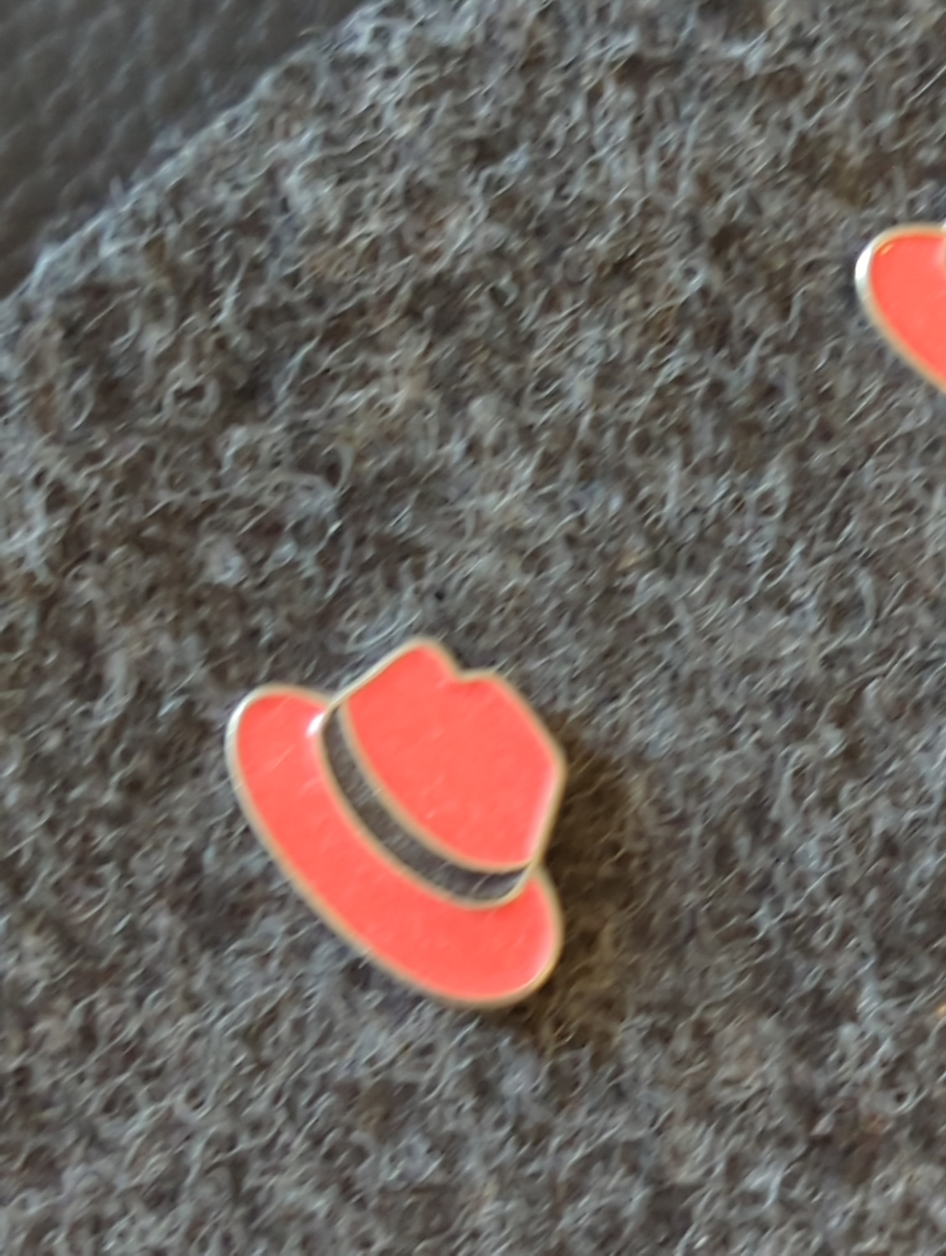Red-Hat: (99, 536, 712, 1105)
